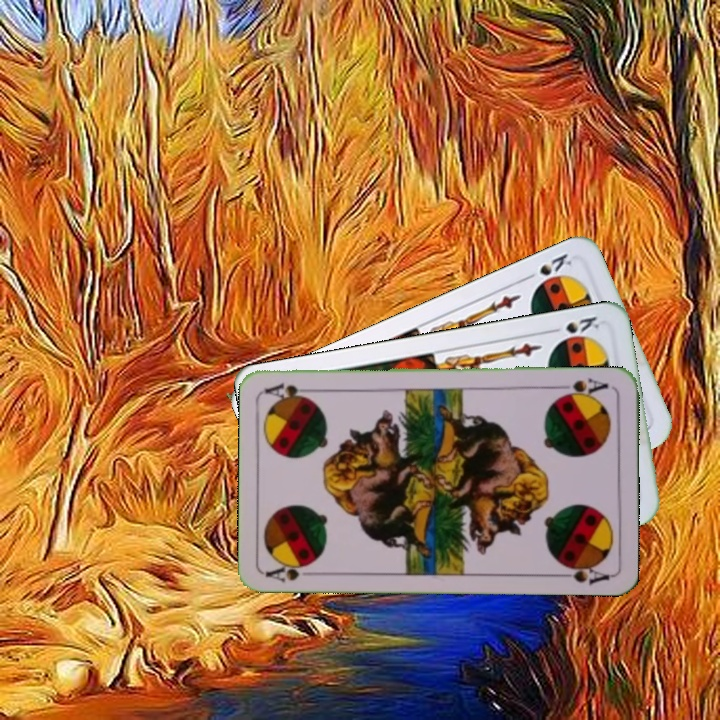SA: (263, 557, 322, 584), (554, 374, 611, 401)
SK: (519, 249, 575, 283), (545, 312, 603, 344)
